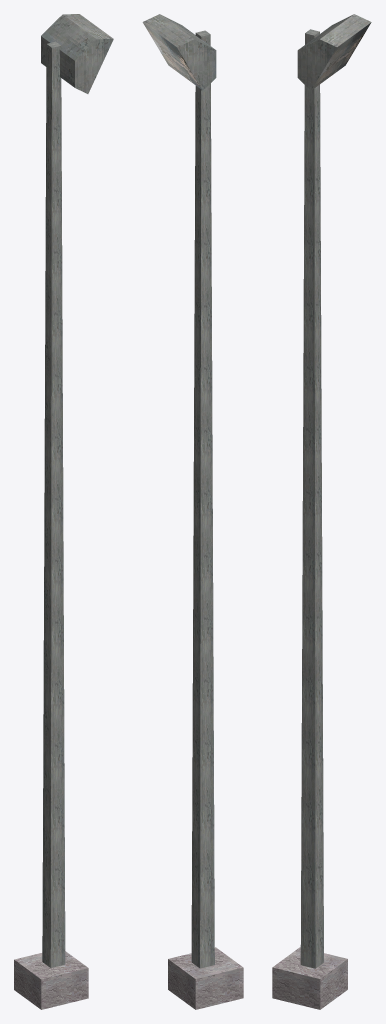
File: LPOLE1.glb
3 views of the same model, side by side, from view 1: azimuth 30°, elevation 25°; view 2: azimuth 210°, elevation 25°; view 3: azimuth 330°, elevation 25° (orthographic).
Parts seen in each view (by area): view 1: _LPOLE1; view 2: _LPOLE1; view 3: _LPOLE1.
Boxes of the visible parts, x1,y1,x2,y2 form: _LPOLE1: (14,14,113,1009); _LPOLE1: (142,14,243,1009); _LPOLE1: (272,14,371,1009).
Size of the model in its own units: 1.15 by 15.55 by 1.
Materials: 1 (1 with a texture image).
